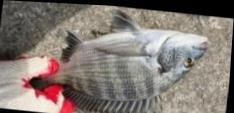fish: (30, 5, 210, 113)
